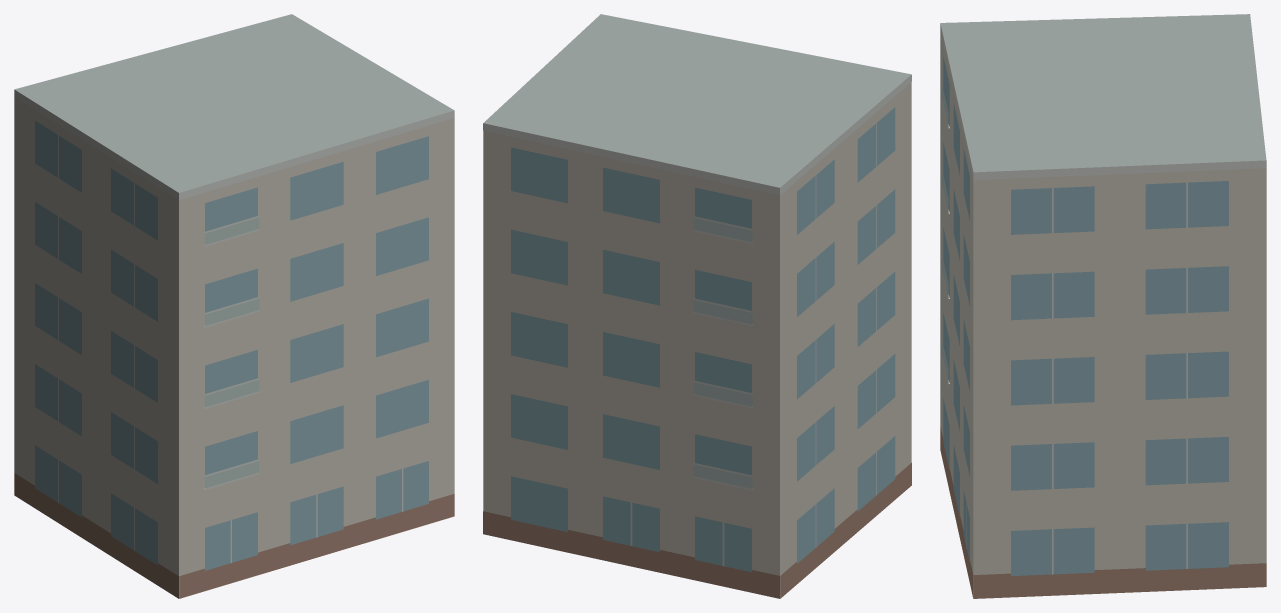
Rendered from survey-upis-32948142.glb.
3 renders of one model, left to right at view 1: azimuth 30°, elevation 25°; view 2: azimuth 150°, elevation 25°; view 3: azimuth 270°, elevation 25°, orthographic. The views are drawn at different scales.
Visible parts, largest first — view 1: survey-upis-32948142.tmp; view 2: survey-upis-32948142.tmp; view 3: survey-upis-32948142.tmp.
Boxes of the visible parts, x1,y1,x2,y2 form: survey-upis-32948142.tmp: (14, 14, 454, 598); survey-upis-32948142.tmp: (483, 14, 911, 598); survey-upis-32948142.tmp: (940, 14, 1266, 598).
Bounding box in the file's own units: 10.8 × 13.55 × 9.4.
